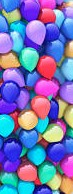Balloon: (36, 55, 57, 79), (19, 48, 39, 71), (27, 21, 44, 46), (31, 95, 51, 116), (3, 138, 22, 160), (44, 142, 65, 161), (1, 82, 19, 104), (17, 162, 37, 181), (43, 123, 64, 141), (21, 1, 40, 20), (18, 128, 38, 146), (39, 162, 57, 182), (43, 24, 62, 42), (18, 111, 37, 128), (1, 115, 15, 137), (59, 82, 73, 103), (27, 148, 44, 164), (1, 33, 12, 54)
